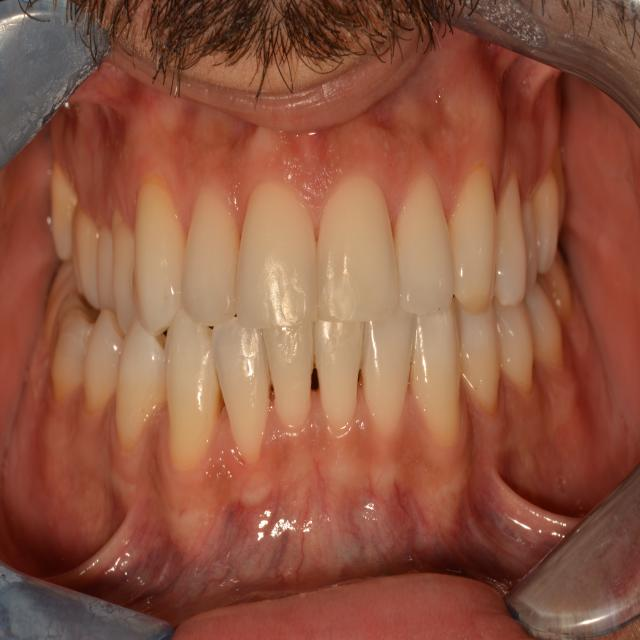tooth: (237, 190, 321, 332), (316, 203, 396, 324), (386, 192, 466, 309), (181, 202, 242, 328), (129, 190, 185, 325), (216, 334, 270, 462), (168, 334, 214, 477), (414, 330, 466, 455), (452, 175, 496, 304), (364, 318, 415, 425), (124, 330, 164, 452), (318, 330, 368, 423), (273, 339, 318, 427), (463, 316, 501, 404)
